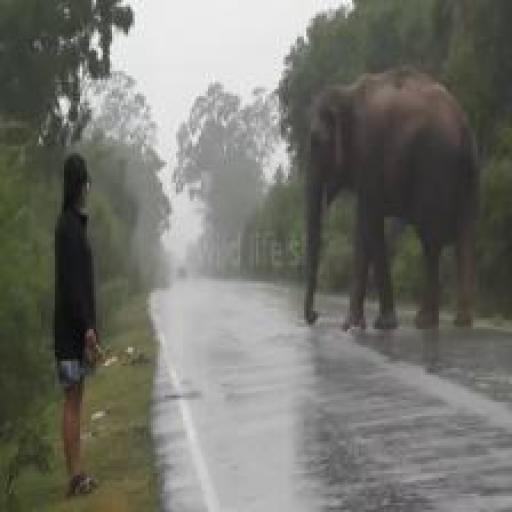Elephant: (295, 52, 499, 348)
